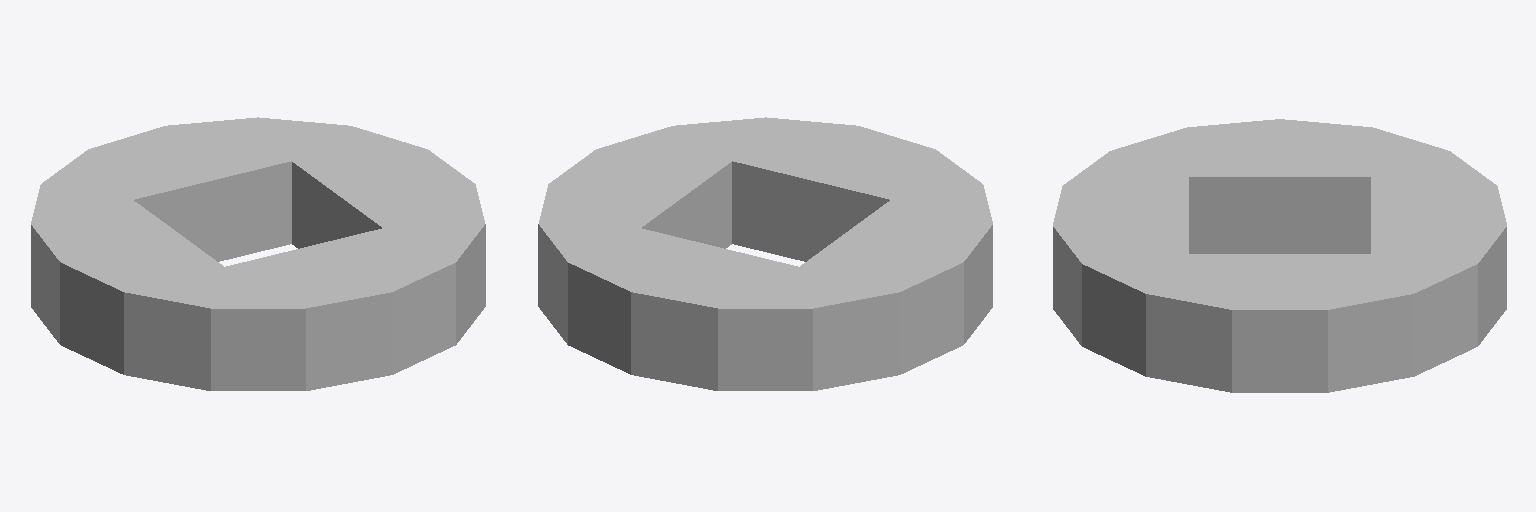
The model's file is 80. Стопор предохранителя.obj.
3 views of the same model, side by side, from view 1: azimuth 30°, elevation 25°; view 2: azimuth 150°, elevation 25°; view 3: azimuth 270°, elevation 25° (orthographic).
Parts seen in each view (by area): view 1: Твердое тело1; view 2: Твердое тело1; view 3: Твердое тело1.
Boxes of the visible parts, x1,y1,x2,y2 form: Твердое тело1: [31, 117, 485, 390]; Твердое тело1: [538, 117, 992, 390]; Твердое тело1: [1053, 119, 1506, 392].
Size of the model in its own units: 19.78 by 4 by 19.89.